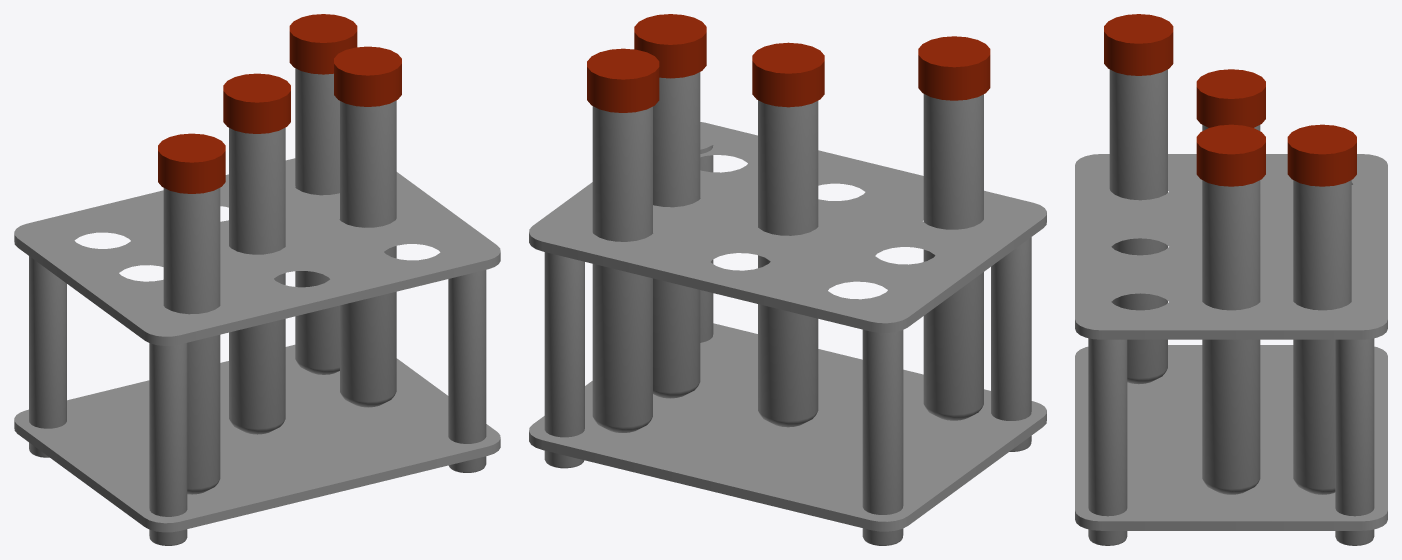
Rendered from Samples.FBX.
3 views of the same model, side by side, from view 1: azimuth 30°, elevation 25°; view 2: azimuth 150°, elevation 25°; view 3: azimuth 270°, elevation 25° (orthographic). The views are drawn at different scales.
Parts seen in each view (by area): view 1: Samples; view 2: Samples; view 3: Samples.
Part boxes in pixels (x1,y1,x2,y2): Samples: [14, 14, 500, 545]; Samples: [529, 14, 1046, 545]; Samples: [1075, 14, 1387, 545].
Size of the model in its own units: 19.49 by 19.53 by 14.62.
